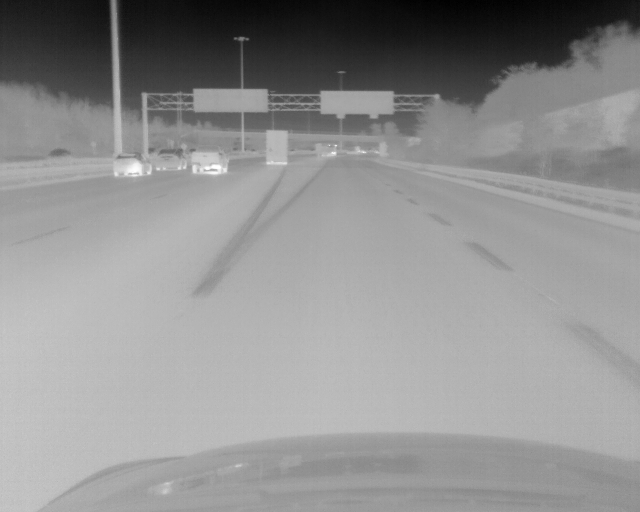car: (190, 146, 228, 174), (112, 151, 152, 177), (266, 130, 288, 165), (154, 148, 186, 171), (317, 143, 338, 156), (46, 149, 71, 158)
